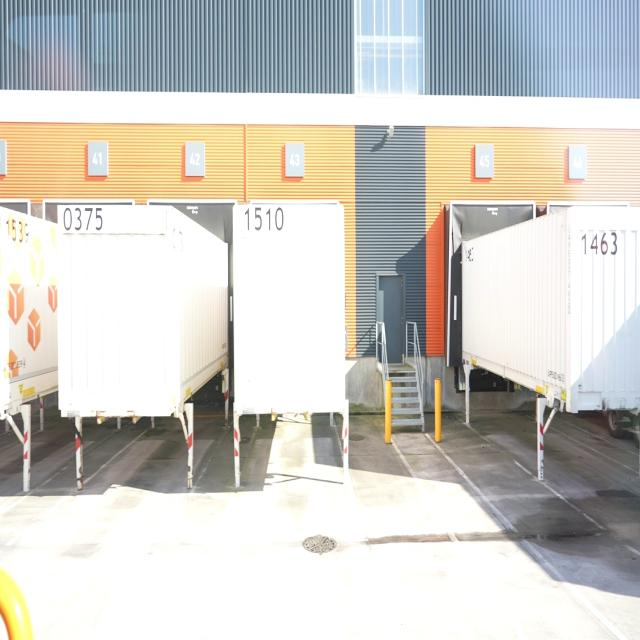Code: (241, 200, 287, 234), (62, 203, 105, 236), (577, 226, 618, 259)
